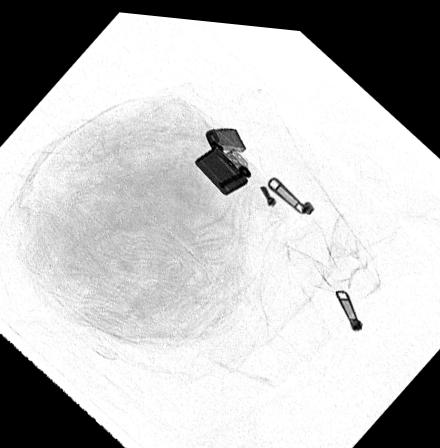Lighter: (194, 122, 250, 191)
